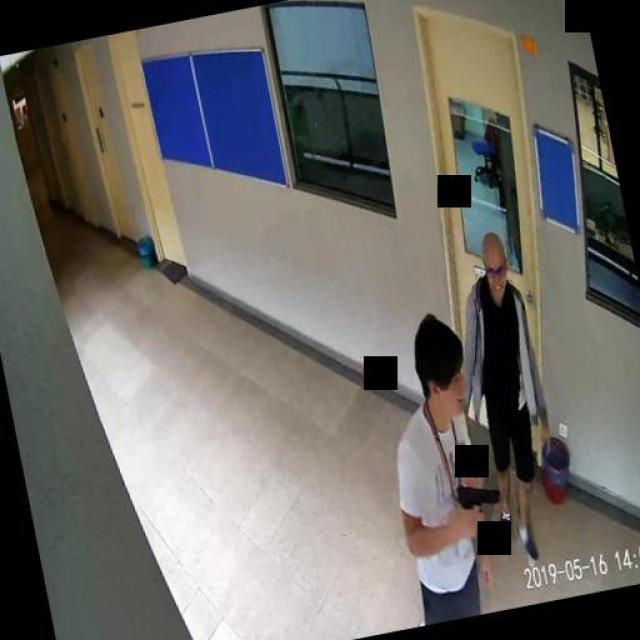gun: (455, 479, 504, 531)
